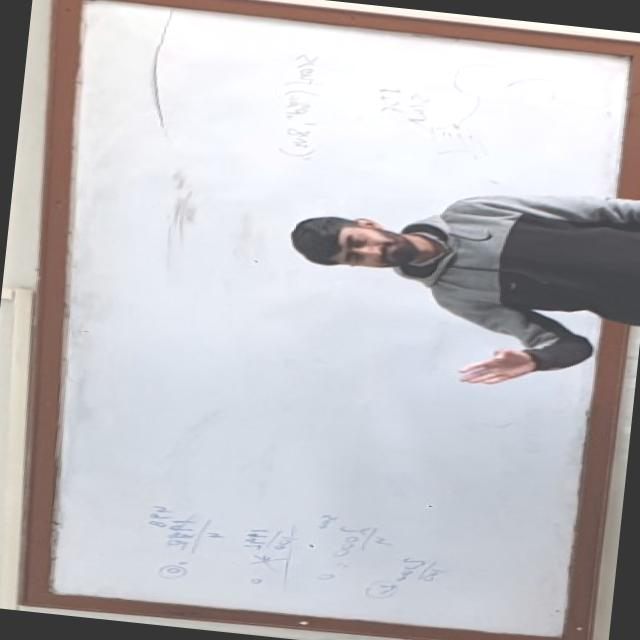Instructor: (260, 169, 640, 333)
White-board: (28, 0, 640, 640)
